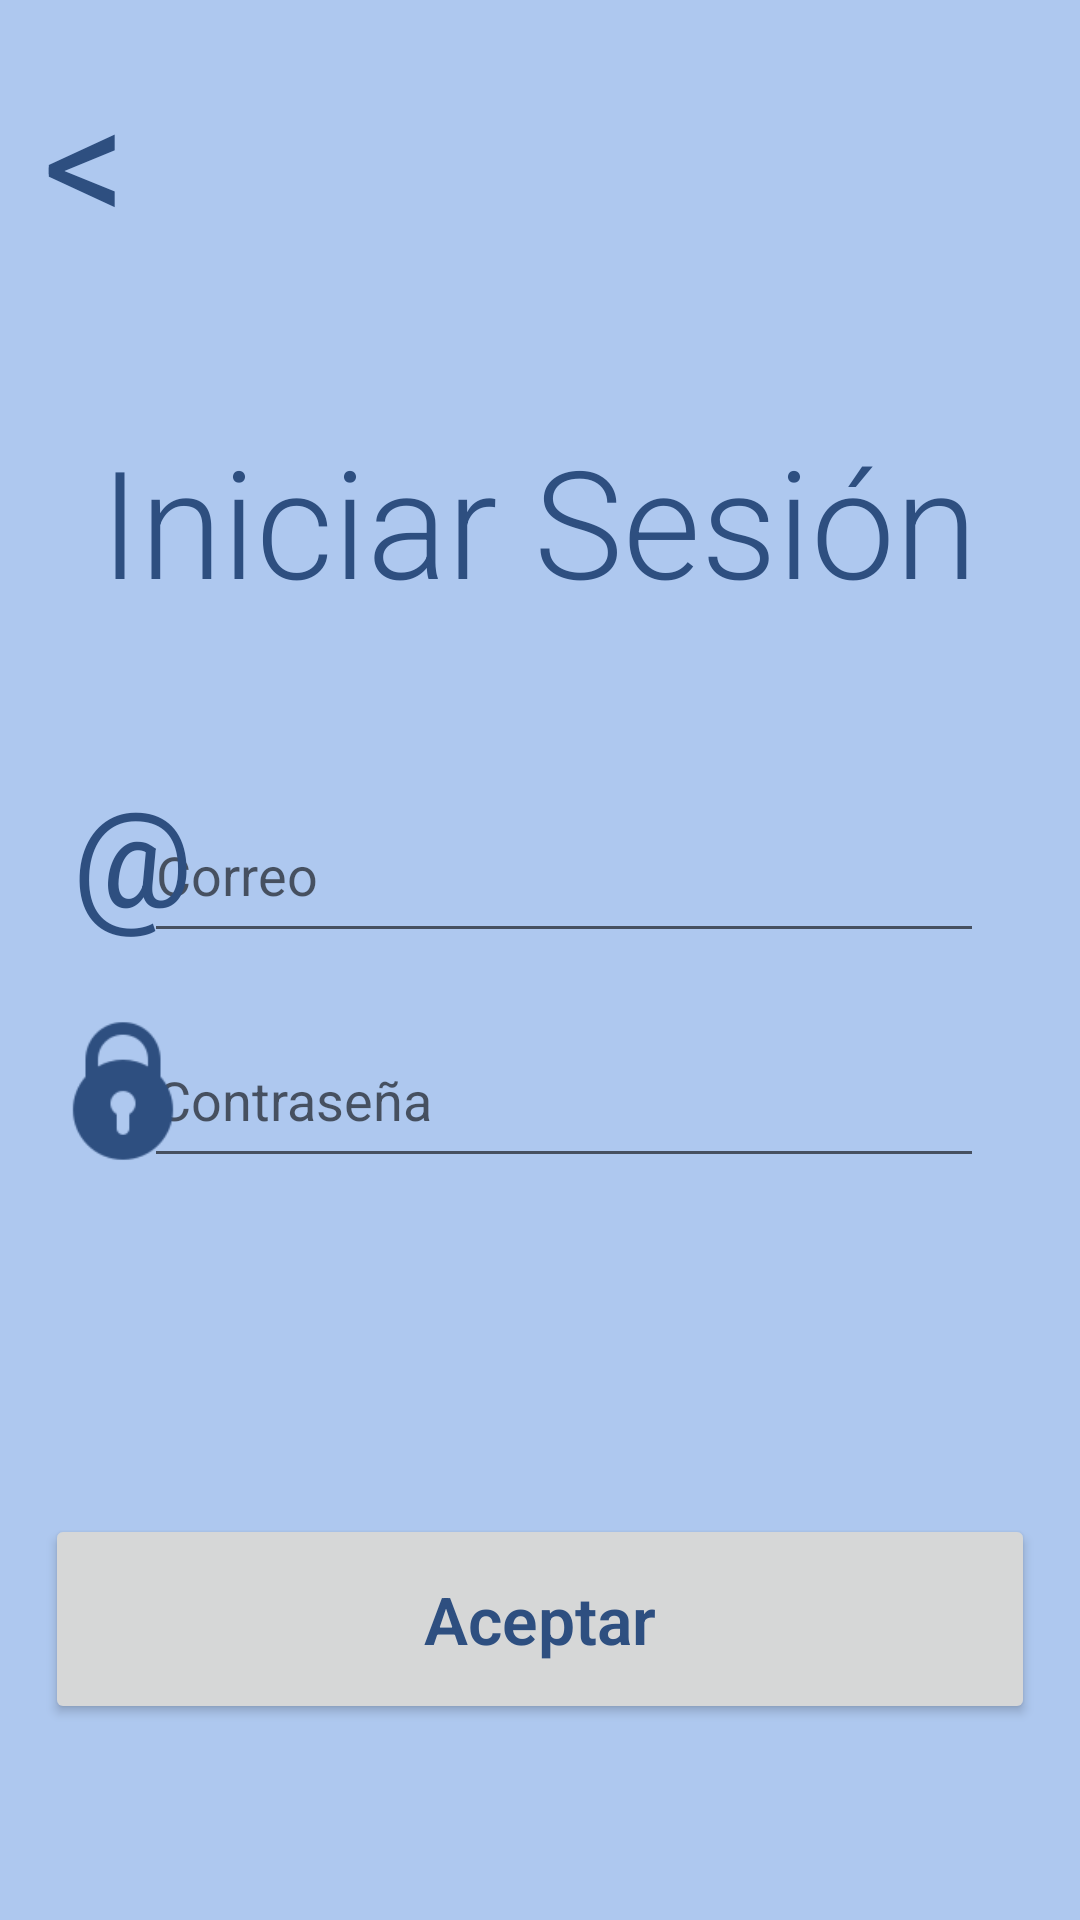

Icons on this 1080 x 1920 Android screen, each with its box as bbox=(x1, y1, x2, y2):
candado: bbox=(73, 1022, 189, 1160)
